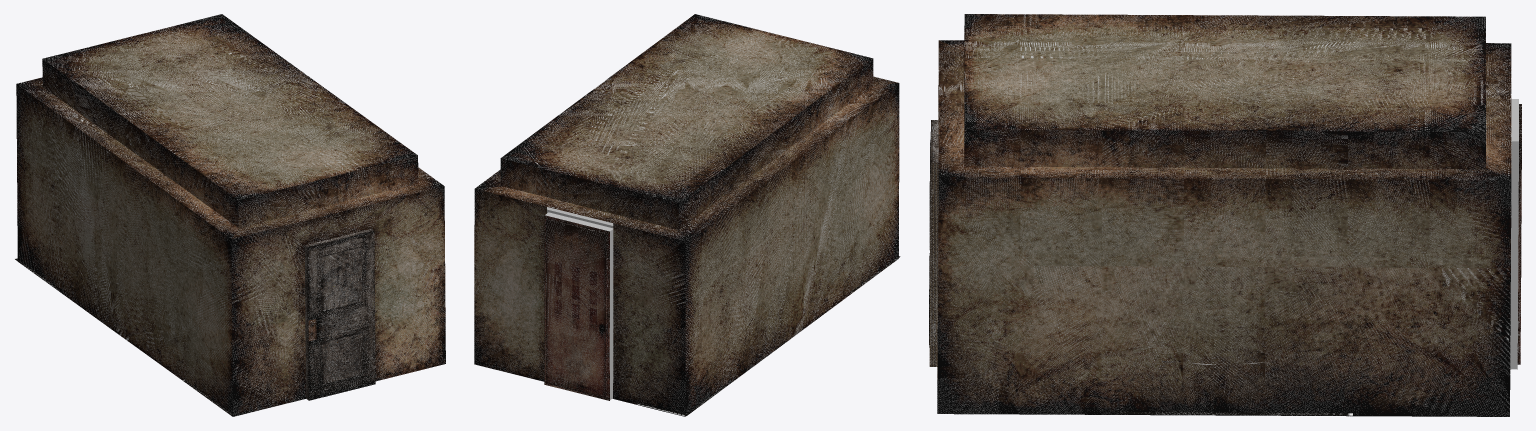
3 renders of one model, left to right at view 1: azimuth 30°, elevation 25°; view 2: azimuth 150°, elevation 25°; view 3: azimuth 270°, elevation 25°, orthographic. The views are drawn at different scales.
Visible parts, largest first — view 1: skpC36D (×3); view 2: skpC36D (×5); view 3: skpC36D (×5).
Boxes of the visible parts, x1,y1,x2,y2 form: skpC36D (×3): [16, 14, 445, 416]; skpC36D (×5): [474, 14, 899, 416]; skpC36D (×5): [929, 14, 1521, 416].
Bounding box in the file's own units: 116 × 205 × 106.
